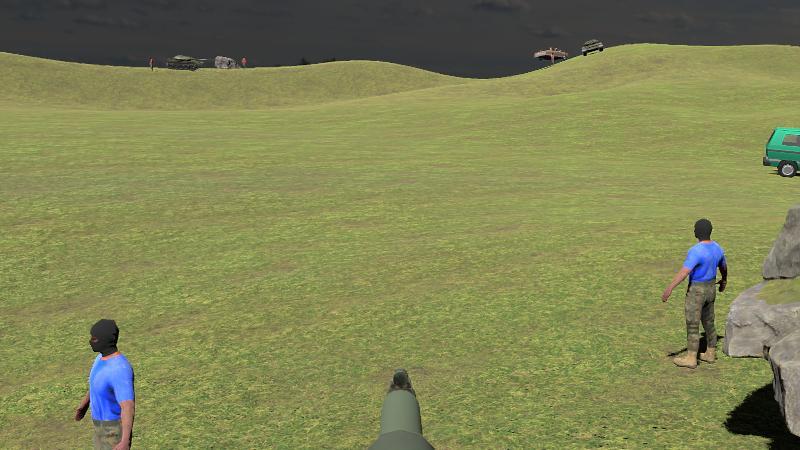Human: (662, 218, 727, 368), (75, 317, 135, 450)
car: (764, 127, 800, 180)
